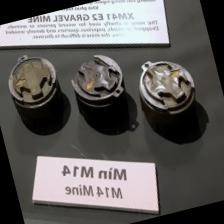M14: (127, 53, 210, 133), (0, 44, 71, 136), (64, 48, 139, 132)
